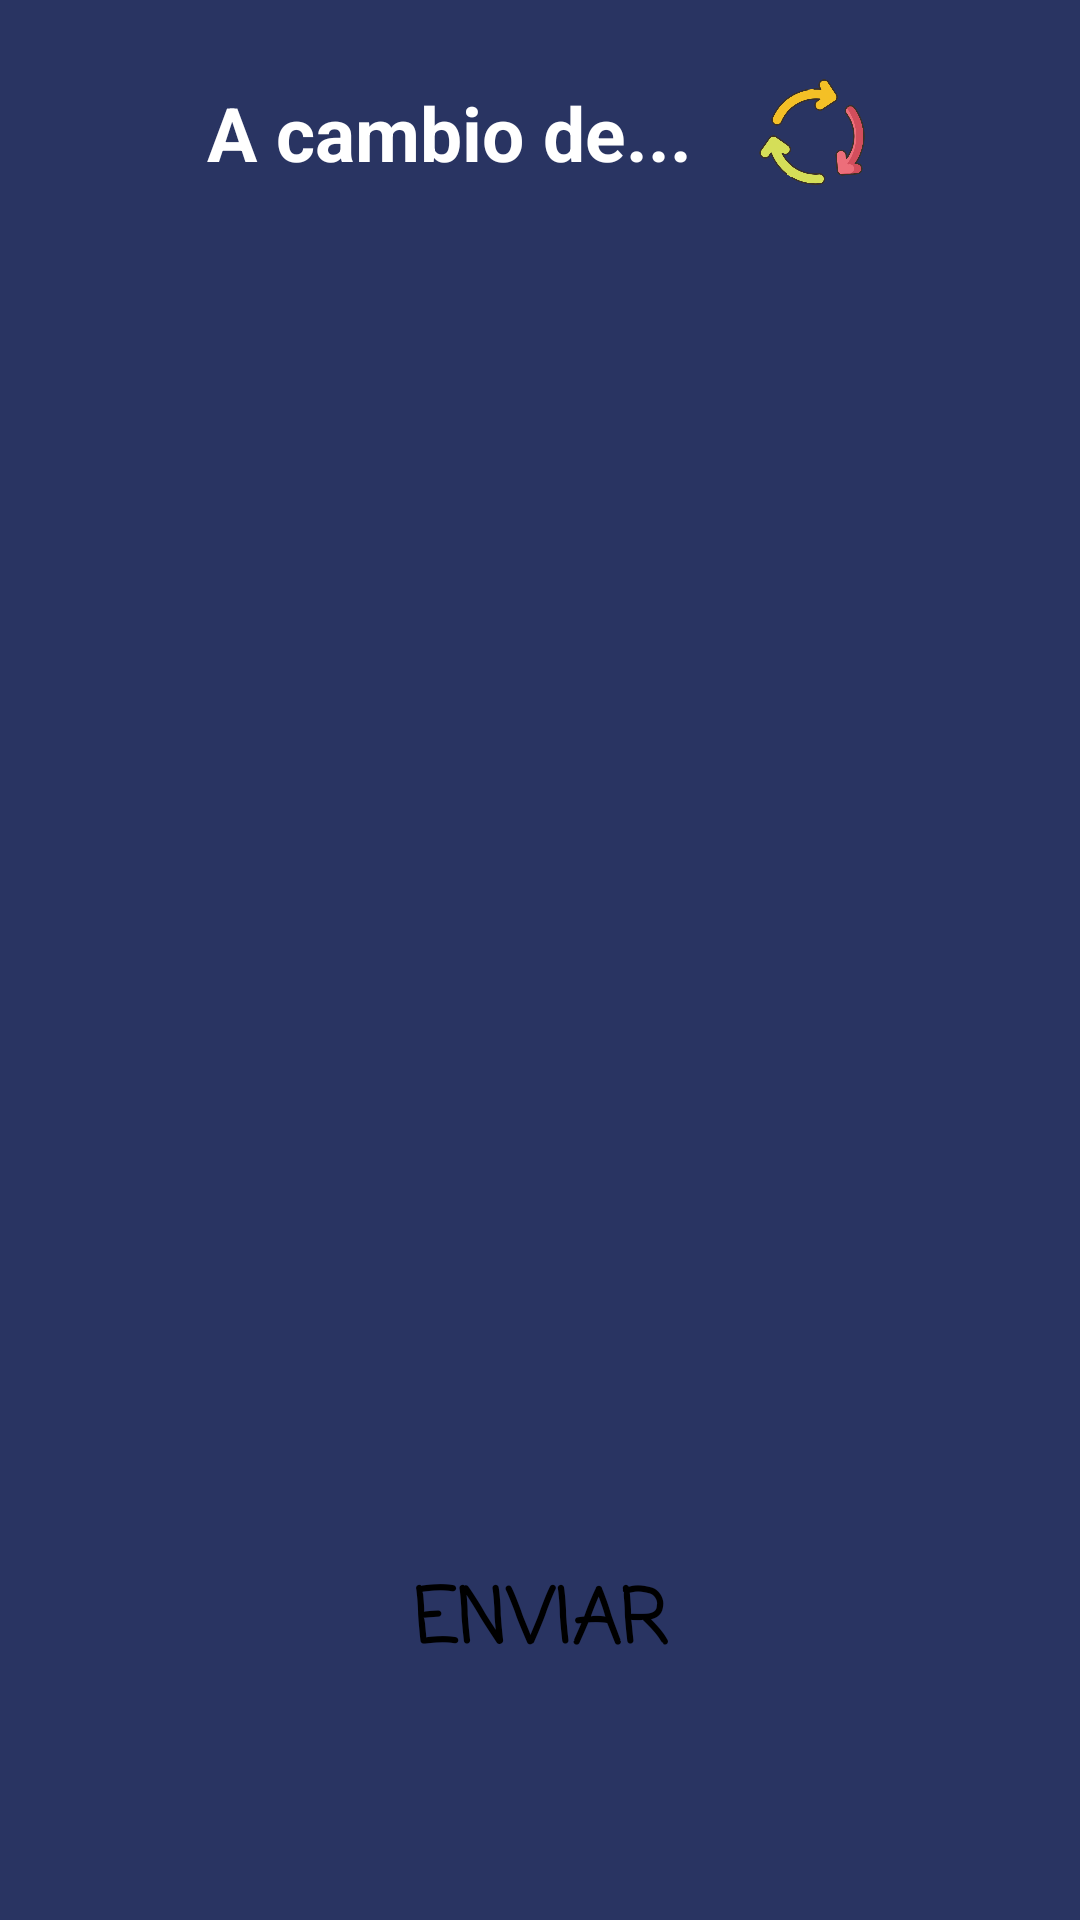

Where icons sit on this 1080 × 1920 app screen, as (x1, y1, x2, y2):
cycle: (759, 79, 865, 185)
